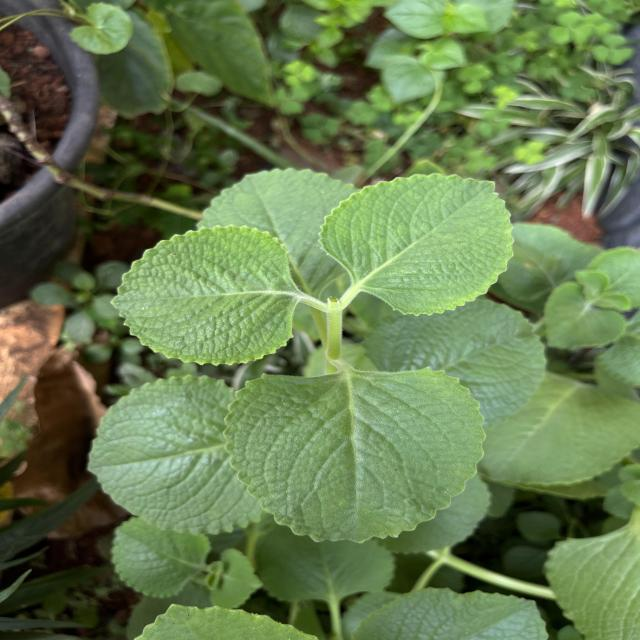Plectranthus barbatus: (222, 364, 488, 546), (86, 373, 269, 537), (316, 172, 516, 318), (109, 224, 299, 366), (360, 298, 550, 430), (109, 516, 214, 600)
